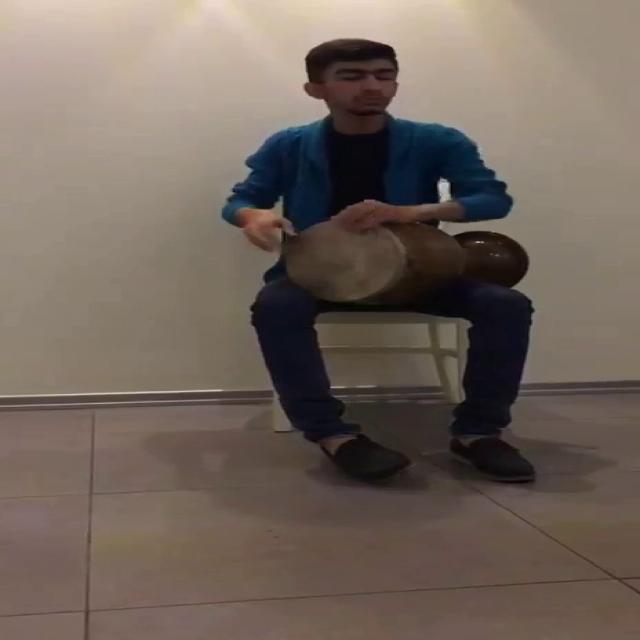Tombak: (273, 212, 558, 321)
